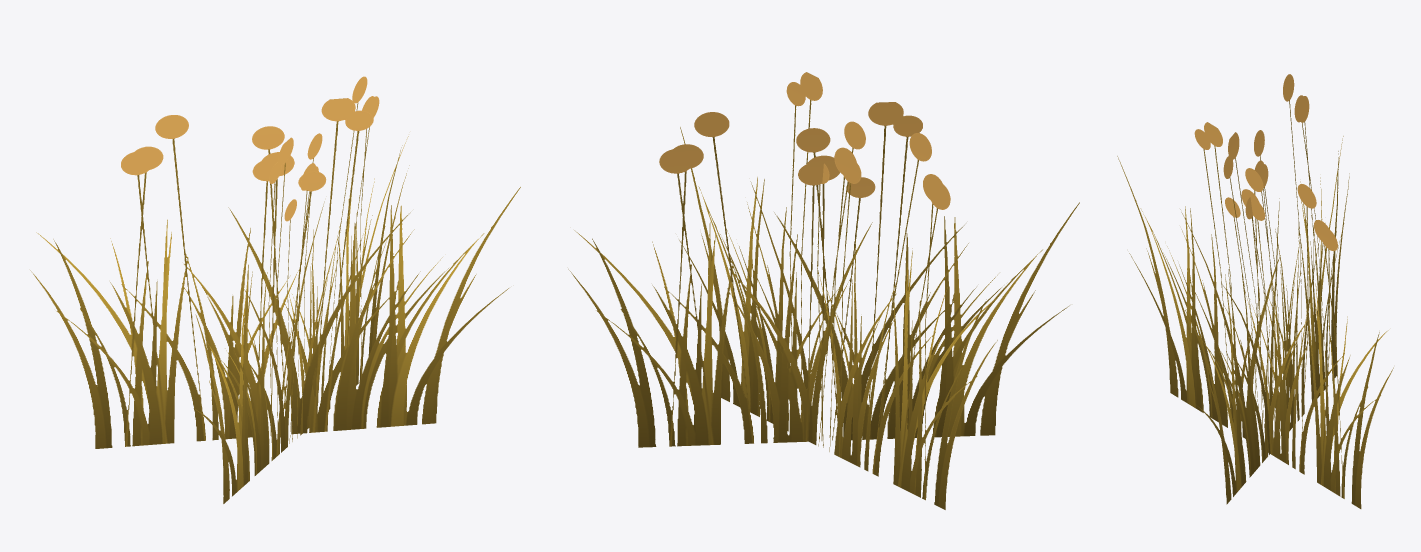
Rendered from cotton_grass_1_burnt1.glb.
3 renders of one model, left to right at view 1: azimuth 30°, elevation 25°; view 2: azimuth 150°, elevation 25°; view 3: azimuth 270°, elevation 25°, orthographic. The views are drawn at different scales.
Visible parts, largest first — view 1: cotton_grass_1_burnt1; view 2: cotton_grass_1_burnt1; view 3: cotton_grass_1_burnt1.
Boxes of the visible parts, bbox=[...] form: cotton_grass_1_burnt1: bbox=[30, 76, 520, 503]; cotton_grass_1_burnt1: bbox=[568, 72, 1079, 509]; cotton_grass_1_burnt1: bbox=[1117, 74, 1393, 508].
Bounding box in the file's own units: 0.5995 × 0.4523 × 0.3731.
Materials: 1 (1 with a texture image).
